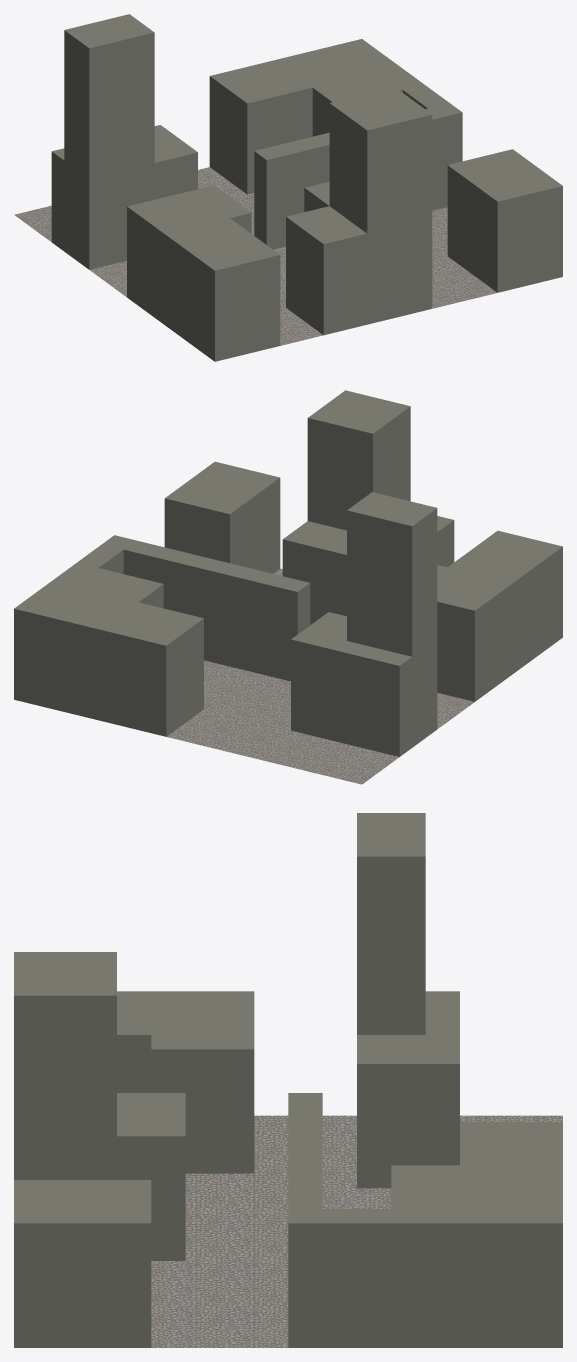
File: title2.fbx
The picture shows the model from 3 angles, top to bottom: view 1: azimuth 30°, elevation 25°; view 2: azimuth 150°, elevation 25°; view 3: azimuth 270°, elevation 25°; orthographic projection. The views are drawn at different scales.
Visible parts, largest first — view 1: Tile 1; view 2: Tile 1; view 3: Tile 1.
Boxes of the visible parts, box(x1,y1,x2,y2) form: Tile 1: box(14, 14, 562, 361); Tile 1: box(14, 390, 562, 784); Tile 1: box(14, 813, 562, 1347).
Size of the model in its own units: 1600 by 973 by 1600.
